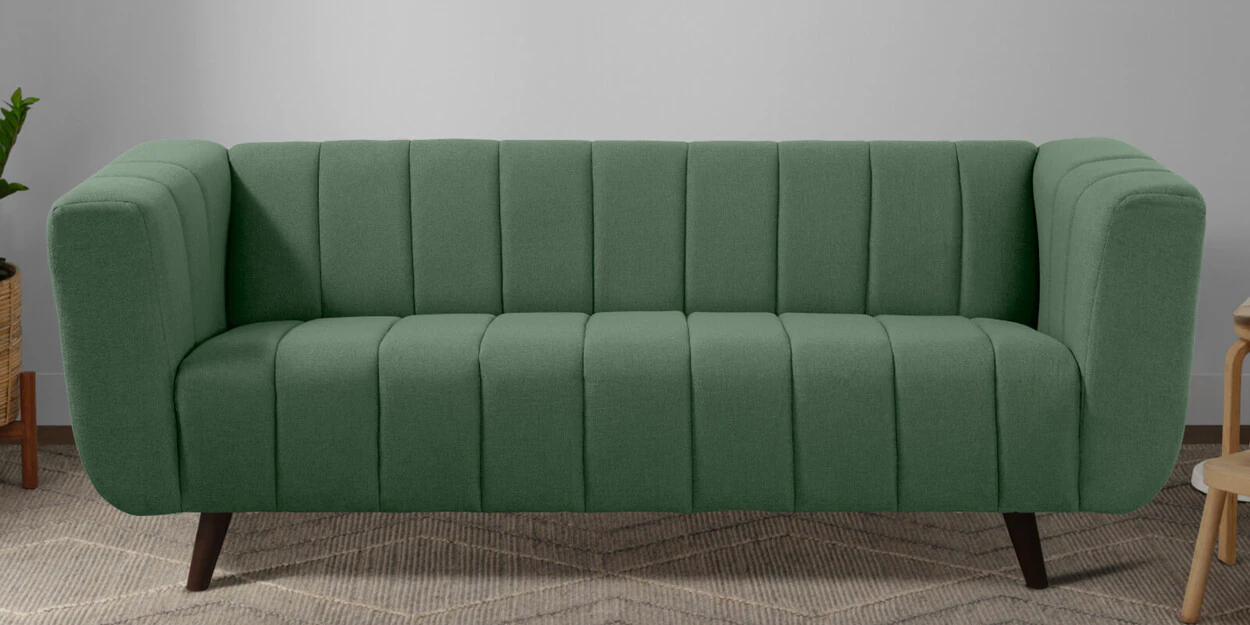3seatersofa: (47, 138, 1204, 589)
backrest: (226, 140, 1038, 326)
leftarmrest: (1033, 138, 1204, 511)
leg: (187, 513, 230, 591), (1004, 513, 1046, 588)
rightarmrest: (48, 140, 231, 513)
seat: (175, 312, 1075, 511)
